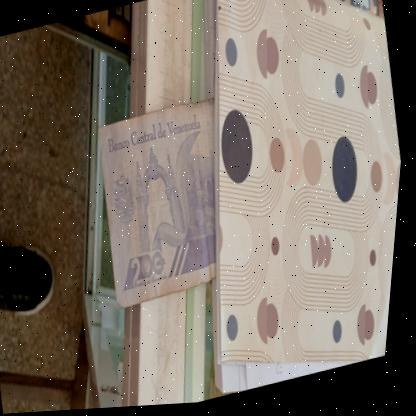ten-back-vef: (85, 92, 255, 312)
